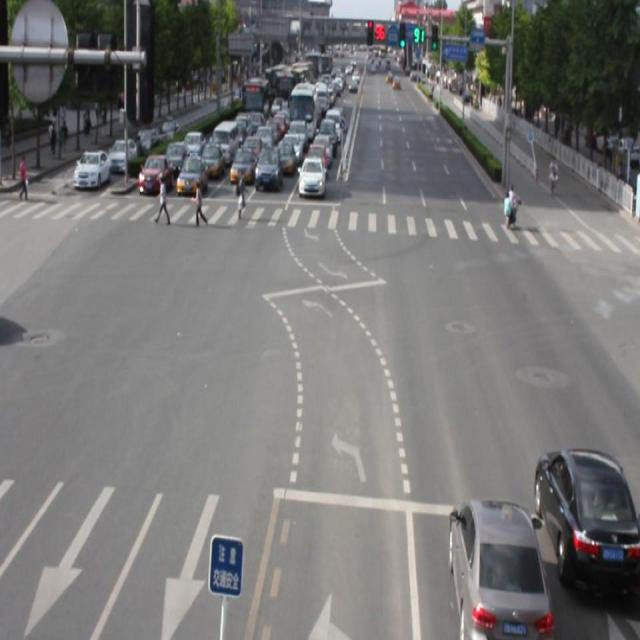car: (532, 447, 640, 591), (448, 498, 549, 640)
